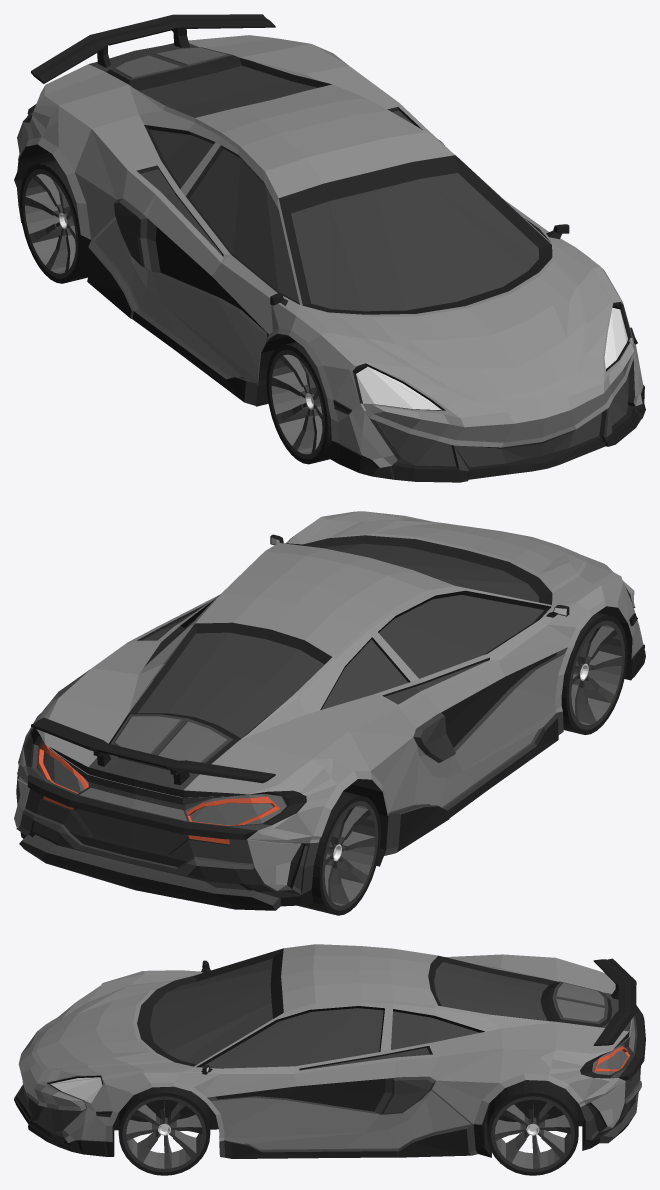
The model's file is mclaren600lt.fbx.
3 views of the same model, one above another, from view 1: azimuth 30°, elevation 25°; view 2: azimuth 150°, elevation 25°; view 3: azimuth 270°, elevation 25° (orthographic). The views are drawn at different scales.
Visible parts, largest first — view 1: GrayBody, FrontRight, BackRight; view 2: GrayBody, BackRight, FrontRight; view 3: GrayBody, BackLeft, FrontLeft.
Part boxes in pixels (left/top/right/bottom): GrayBody: left=14, top=14, right=645, bottom=482; FrontRight: left=266, top=342, right=331, bottom=464; BackRight: left=20, top=160, right=87, bottom=283; GrayBody: left=14, top=511, right=645, bottom=910; BackRight: left=298, top=791, right=380, bottom=915; FrontRight: left=561, top=612, right=627, bottom=734; GrayBody: left=14, top=944, right=645, bottom=1158; BackLeft: left=487, top=1080, right=578, bottom=1175; FrontLeft: left=118, top=1086, right=210, bottom=1175.
Size of the model in its own units: 2.04 by 4.68 by 1.24.
